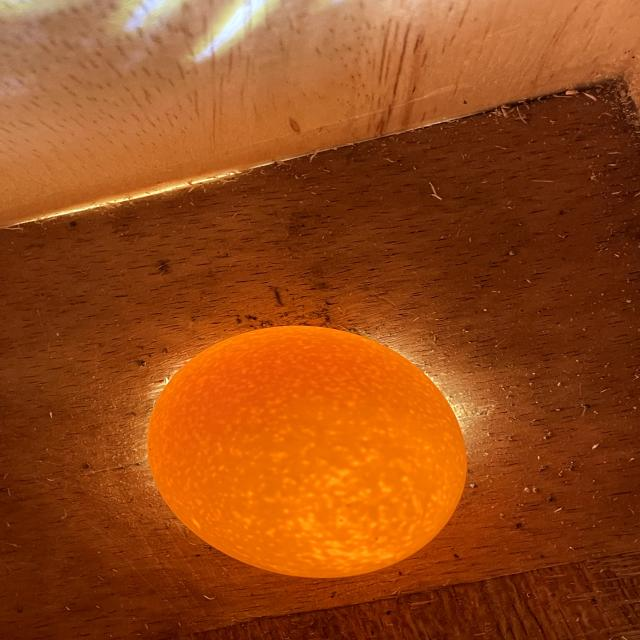infertile: (148, 326, 467, 578)
